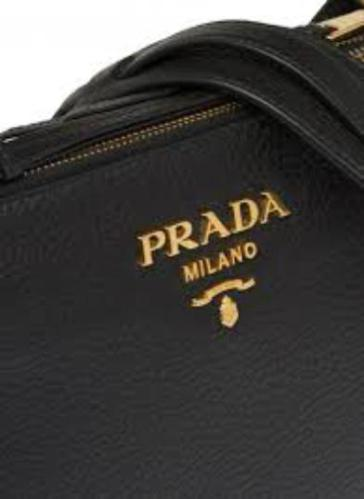PRADA: (135, 180, 287, 281)
